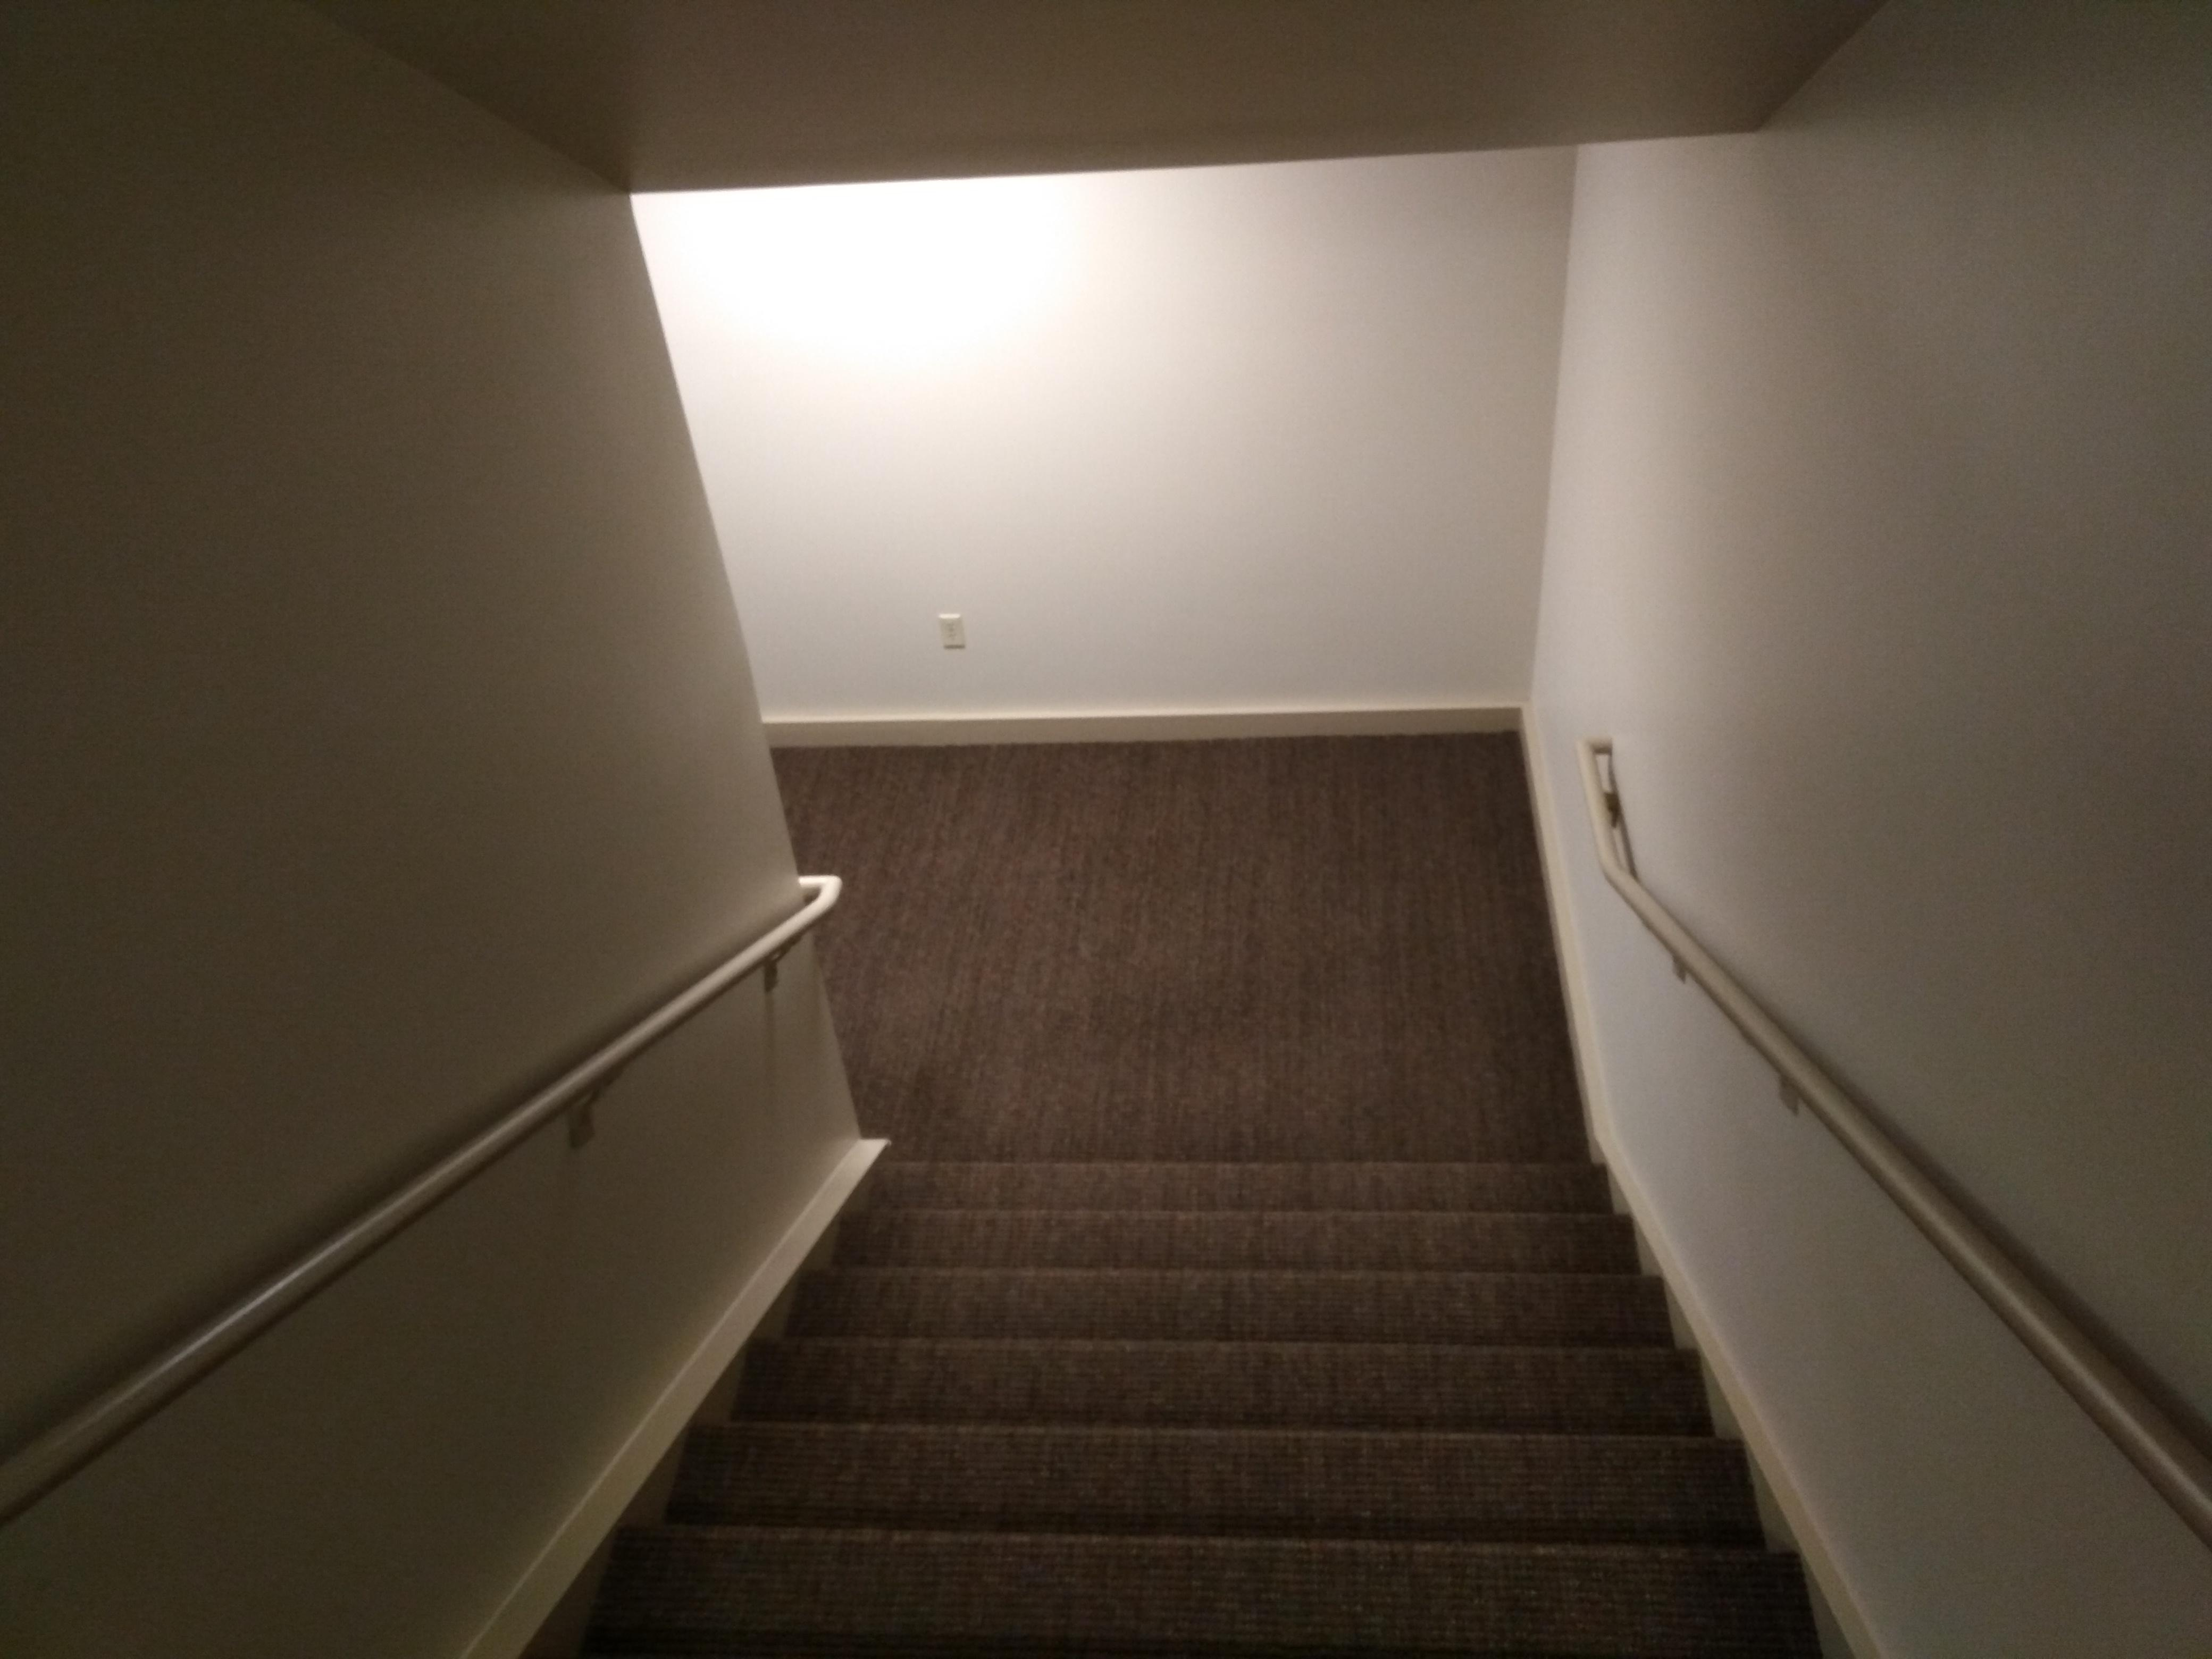stairs_down: (509, 1152, 1839, 1659)
